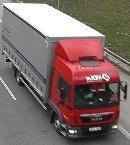Truck: (2, 1, 128, 139)
